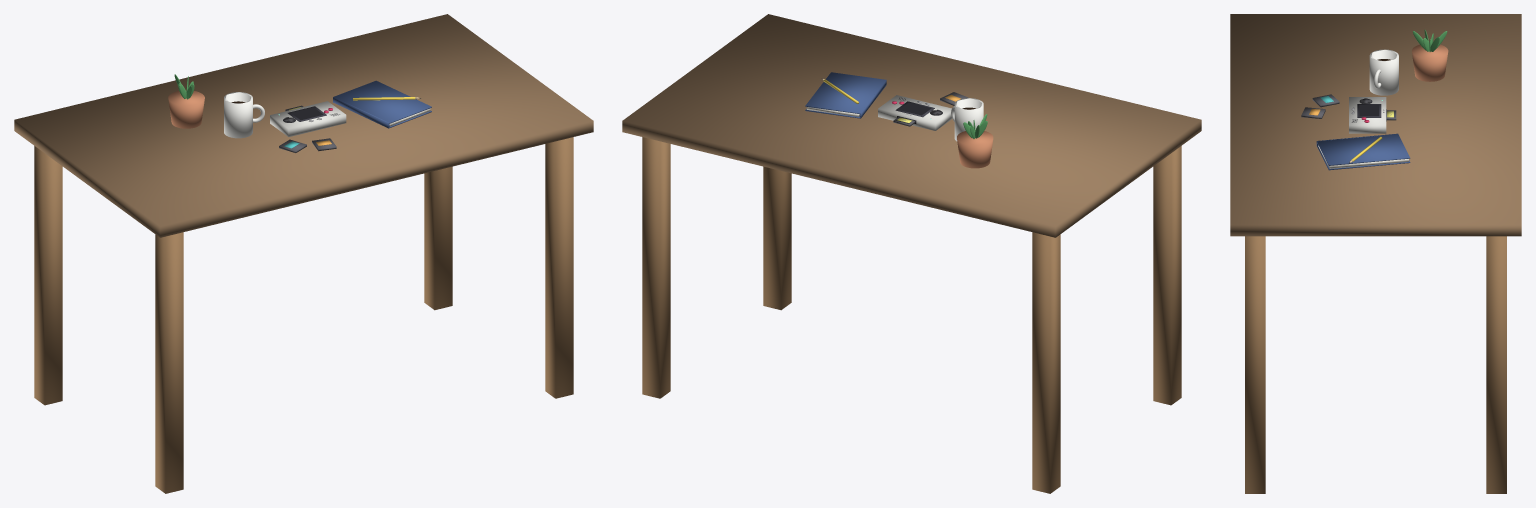
Rendered from NConsole.glb.
3 renders of one model, left to right at view 1: azimuth 30°, elevation 25°; view 2: azimuth 150°, elevation 25°; view 3: azimuth 270°, elevation 25°, orthographic.
Visible parts, largest first — view 1: Table_Top, Table_Leg_FL, Table_Leg_FR, Table_Leg_BL, Table_Leg_BR, Notebook_CoverTop, Shell_Body, Mug_Body, Plant_Pot; view 2: Table_Top, Table_Leg_BL, Table_Leg_BR, Table_Leg_FL, Table_Leg_FR, Notebook_CoverTop, Shell_Body, Plant_Pot, Mug_Body; view 3: Table_Top, Table_Leg_BR, Table_Leg_FR, Notebook_CoverTop, Mug_Body, Plant_Pot, Shell_Body.
Part boxes in pixels (bbox=[...]): Table_Top: bbox=[14, 14, 593, 237]; Table_Leg_FL: bbox=[155, 232, 183, 493]; Table_Leg_FR: bbox=[545, 137, 573, 398]; Table_Leg_BL: bbox=[34, 146, 62, 405]; Table_Leg_BR: bbox=[424, 166, 452, 310]; Notebook_CoverTop: bbox=[334, 80, 431, 123]; Shell_Body: bbox=[270, 101, 346, 136]; Mug_Body: bbox=[224, 92, 252, 138]; Plant_Pot: bbox=[168, 90, 204, 128]; Table_Top: bbox=[622, 14, 1201, 237]; Table_Leg_BL: bbox=[1032, 232, 1060, 493]; Table_Leg_BR: bbox=[642, 137, 670, 398]; Table_Leg_FL: bbox=[1153, 146, 1181, 405]; Table_Leg_FR: bbox=[763, 166, 791, 310]; Notebook_CoverTop: bbox=[805, 72, 886, 114]; Shell_Body: bbox=[878, 95, 952, 130]; Plant_Pot: bbox=[957, 131, 993, 168]; Mug_Body: bbox=[954, 98, 983, 141]; Table_Top: bbox=[1230, 14, 1521, 236]; Table_Leg_BR: bbox=[1486, 236, 1506, 493]; Table_Leg_FR: bbox=[1245, 236, 1265, 493]; Notebook_CoverTop: bbox=[1317, 133, 1410, 165]; Mug_Body: bbox=[1369, 49, 1398, 95]; Plant_Pot: bbox=[1412, 44, 1448, 81]; Shell_Body: bbox=[1349, 97, 1386, 133].
Size of the model in its own units: 120 by 84.37 by 70.
